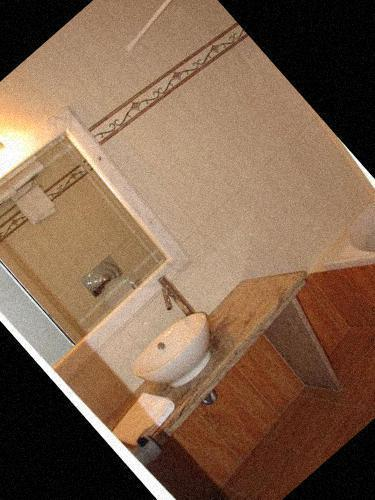Lavamanos: (93, 258, 245, 411)
